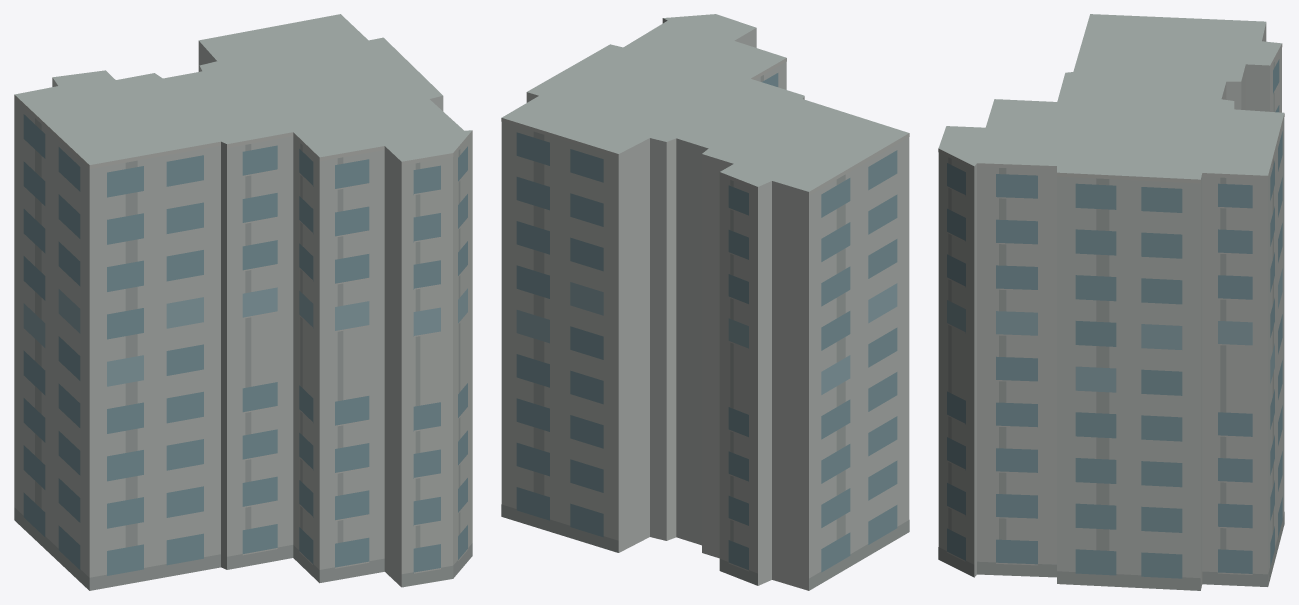
Rendered from survey-upis-32872971.glb.
3 renders of one model, left to right at view 1: azimuth 30°, elevation 25°; view 2: azimuth 150°, elevation 25°; view 3: azimuth 270°, elevation 25°, orthographic. The views are drawn at different scales.
Parts seen in each view (by area): view 1: survey-upis-32872971.tmp; view 2: survey-upis-32872971.tmp; view 3: survey-upis-32872971.tmp.
Boxes of the visible parts, x1,y1,x2,y2 form: survey-upis-32872971.tmp: (14, 14, 472, 590); survey-upis-32872971.tmp: (501, 14, 909, 590); survey-upis-32872971.tmp: (938, 14, 1284, 590).
Size of the model in its own units: 22.2 by 25.7 by 19.61.
